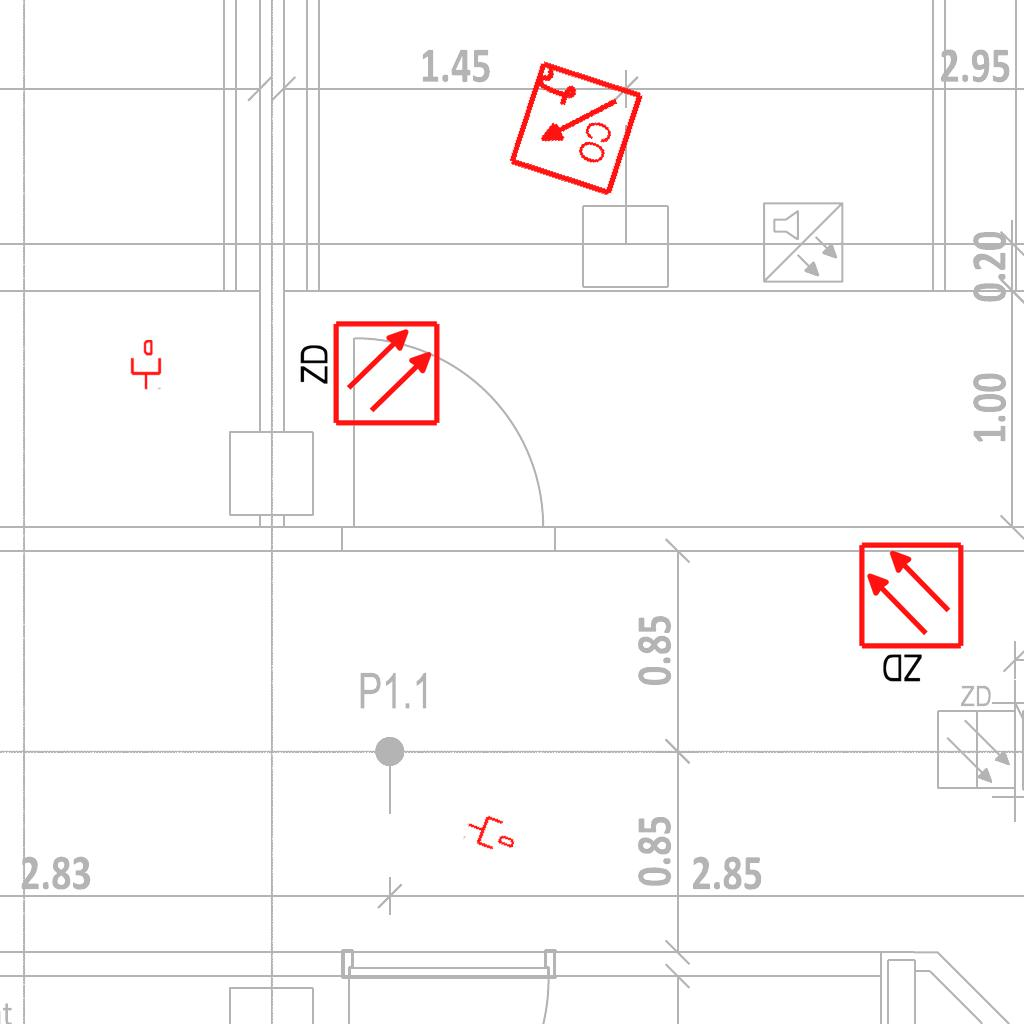Datenanschluss_einfach: (461, 808, 521, 858), (129, 340, 163, 390)
ROA_Rauchmelder_optisch_mit_Signalgeber_(Sockelsirene): (503, 57, 646, 200)
ZD_Melder_in_Zwischendecke_mit_Revisionsoeffnung_mind_40_x_40_cm: (293, 318, 442, 432), (856, 540, 970, 689)
